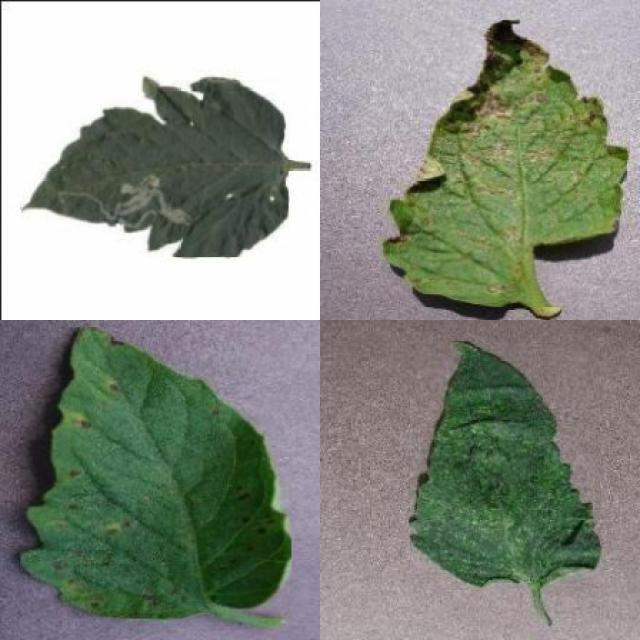Leaf Miner: (22, 72, 288, 258)
Septoria: (20, 327, 291, 619), (380, 17, 627, 307)
Spider Mites: (408, 342, 602, 588)
